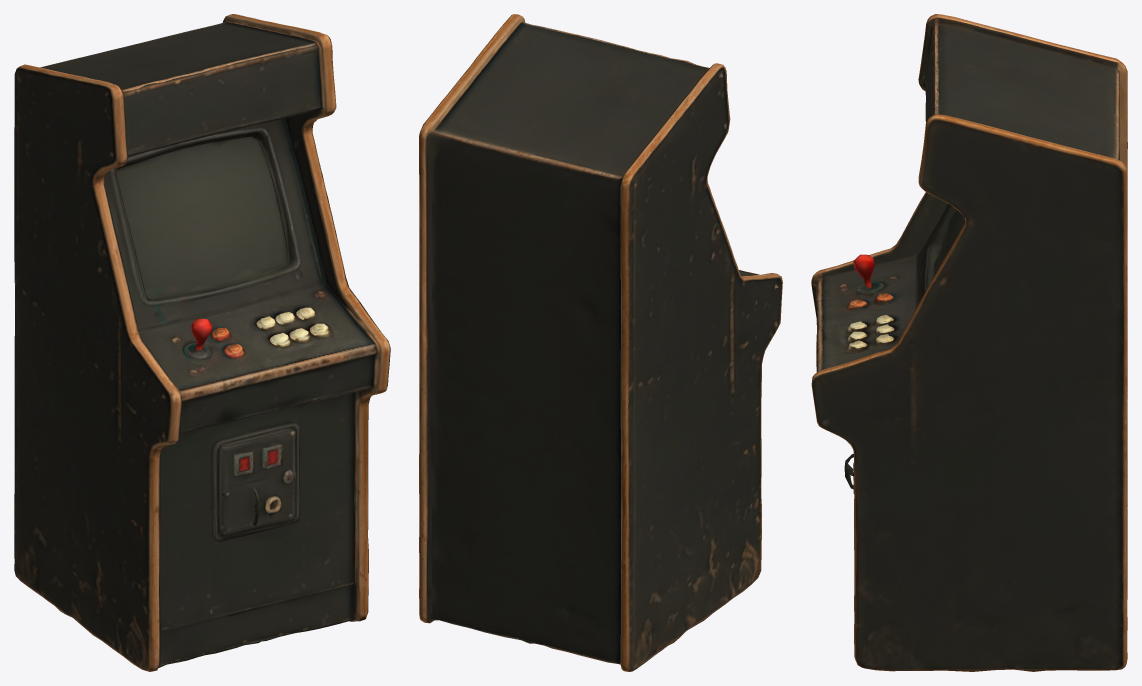
The model's file is arcade.glb.
3 renders of one model, left to right at view 1: azimuth 30°, elevation 25°; view 2: azimuth 150°, elevation 25°; view 3: azimuth 270°, elevation 25°, orthographic. The views are drawn at different scales.
Parts seen in each view (by area): view 1: tripo_node_0896ea00-a134-4eec-8e03-00e9529538a6; view 2: tripo_node_0896ea00-a134-4eec-8e03-00e9529538a6; view 3: tripo_node_0896ea00-a134-4eec-8e03-00e9529538a6.
Boxes of the visible parts, x1,y1,x2,y2 form: tripo_node_0896ea00-a134-4eec-8e03-00e9529538a6: [14, 14, 390, 671]; tripo_node_0896ea00-a134-4eec-8e03-00e9529538a6: [419, 14, 782, 671]; tripo_node_0896ea00-a134-4eec-8e03-00e9529538a6: [811, 14, 1127, 671].
Size of the model in its own units: 0.4138 by 1 by 0.5164.
1 material, 1 textured.
